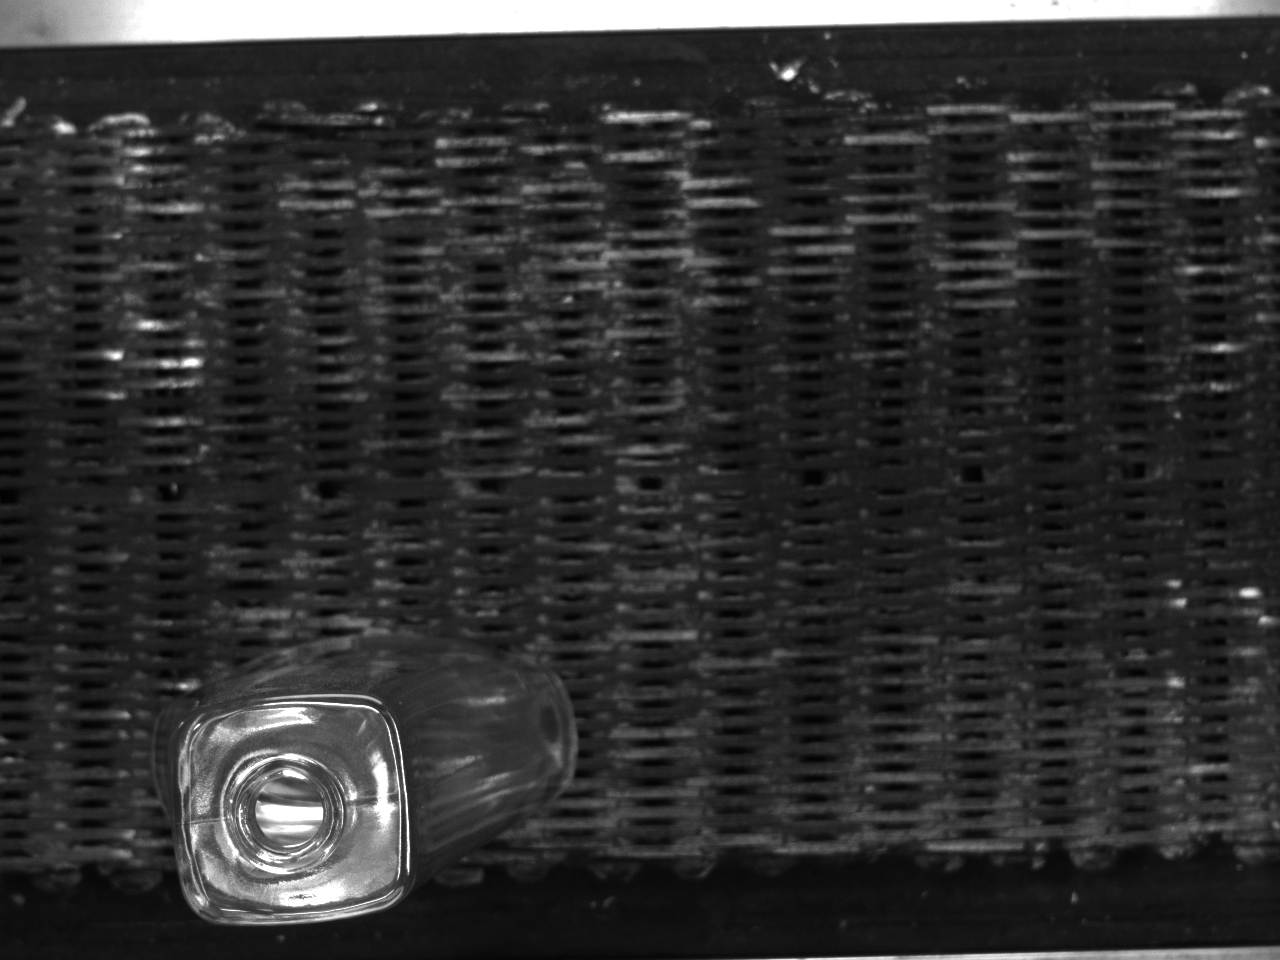bottleneck: (229, 754, 345, 870)
